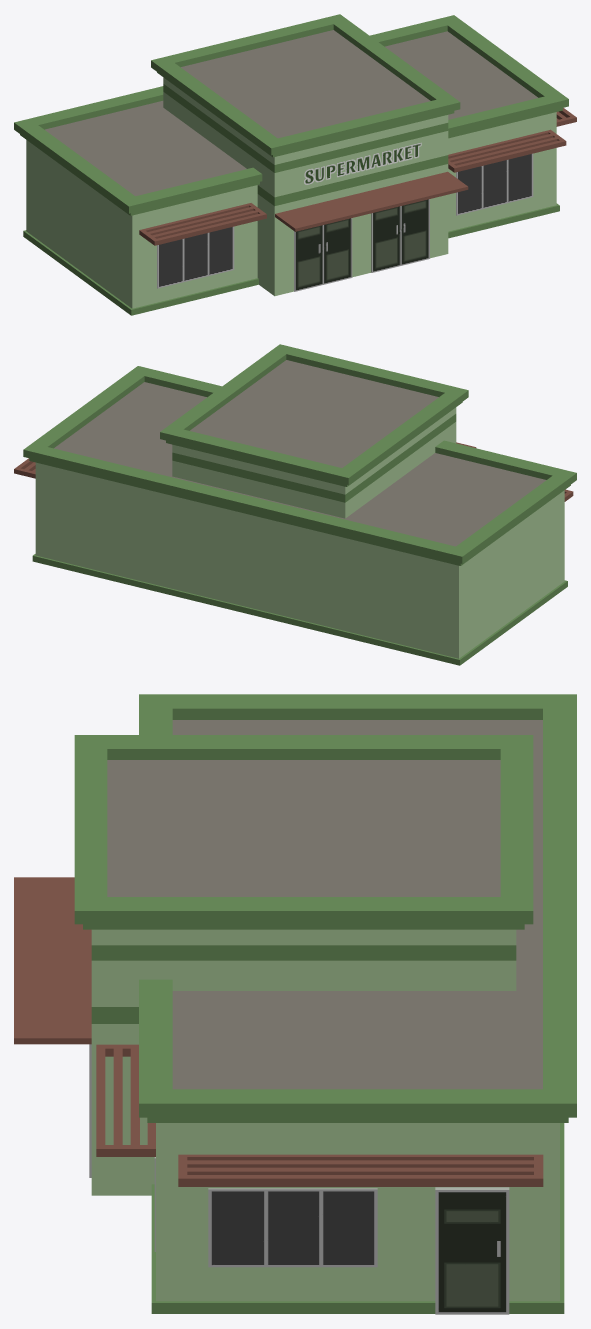
The model's file is building-super-market.glb.
The picture shows the model from 3 angles, top to bottom: view 1: azimuth 30°, elevation 25°; view 2: azimuth 150°, elevation 25°; view 3: azimuth 270°, elevation 25°; orthographic projection. The views are drawn at different scales.
Visible parts, largest first — view 1: model; view 2: model; view 3: model.
Part boxes in pixels (x1,y1,x2,y2): model: (14,14,576,315); model: (14,344,576,665); model: (14,694,576,1314).
Bounding box in the file's own units: 23.75 × 7.58 × 13.25.
1 material, 1 textured.
